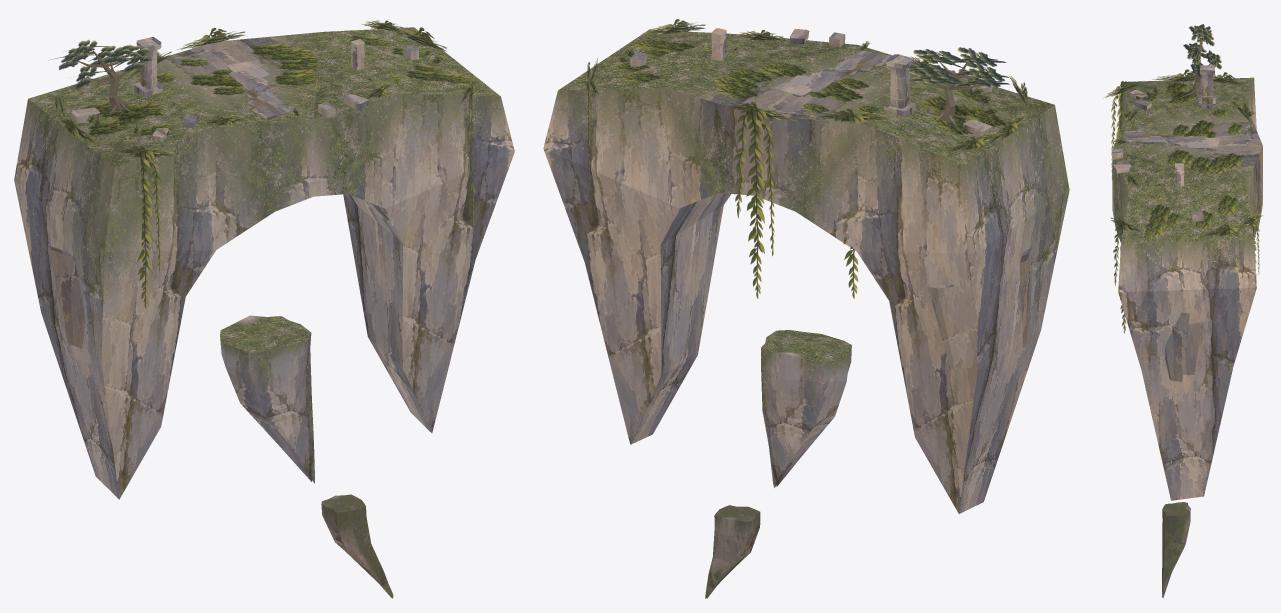
Rendered from arch.glb.
3 views of the same model, side by side, from view 1: azimuth 30°, elevation 25°; view 2: azimuth 150°, elevation 25°; view 3: azimuth 270°, elevation 25° (orthographic). The views are drawn at different scales.
Parts seen in each view (by area): view 1: arch-open-stone-arch, arch-painted-pine-ivy-and-moss, arch-satellite-0-continuous-fractured-stone, arch-ruins-path-and-splintered-ledges, arch-long-hanging-vine-quads, arch-satellite-1-continuous-fractured-stone, arch-summit-soil-and-bent-trunks; view 2: arch-open-stone-arch, arch-painted-pine-ivy-and-moss, arch-satellite-0-continuous-fractured-stone, arch-ruins-path-and-splintered-ledges, arch-long-hanging-vine-quads, arch-satellite-1-continuous-fractured-stone, arch-summit-soil-and-bent-trunks; view 3: arch-open-stone-arch, arch-painted-pine-ivy-and-moss, arch-ruins-path-and-splintered-ledges, arch-satellite-1-continuous-fractured-stone, arch-long-hanging-vine-quads, arch-summit-soil-and-bent-trunks.
Boxes of the visible parts, bbox=[...] form: arch-open-stone-arch: bbox=[14, 27, 514, 499]; arch-painted-pine-ivy-and-moss: bbox=[48, 20, 476, 157]; arch-satellite-0-continuous-fractured-stone: bbox=[220, 315, 314, 483]; arch-ruins-path-and-splintered-ledges: bbox=[36, 37, 418, 348]; arch-long-hanging-vine-quads: bbox=[55, 20, 475, 308]; arch-satellite-1-continuous-fractured-stone: bbox=[321, 494, 393, 598]; arch-summit-soil-and-bent-trunks: bbox=[77, 50, 134, 115]; arch-open-stone-arch: bbox=[543, 29, 1069, 513]; arch-painted-pine-ivy-and-moss: bbox=[587, 22, 1028, 151]; arch-satellite-0-continuous-fractured-stone: bbox=[761, 330, 851, 487]; arch-ruins-path-and-splintered-ledges: bbox=[630, 28, 1031, 369]; arch-long-hanging-vine-quads: bbox=[585, 19, 1027, 298]; arch-satellite-1-continuous-fractured-stone: bbox=[705, 505, 760, 598]; arch-summit-soil-and-bent-trunks: bbox=[929, 62, 979, 125]; arch-open-stone-arch: bbox=[1112, 77, 1262, 500]; arch-painted-pine-ivy-and-moss: bbox=[1103, 24, 1263, 237]; arch-ruins-path-and-splintered-ledges: bbox=[1111, 65, 1219, 382]; arch-satellite-1-continuous-fractured-stone: bbox=[1162, 502, 1190, 598]; arch-long-hanging-vine-quads: bbox=[1111, 69, 1259, 373]; arch-summit-soil-and-bent-trunks: bbox=[1185, 38, 1210, 99].
Bounding box in the file's own units: 34.54 × 48.38 × 15.73.
7 materials, 6 textured.
